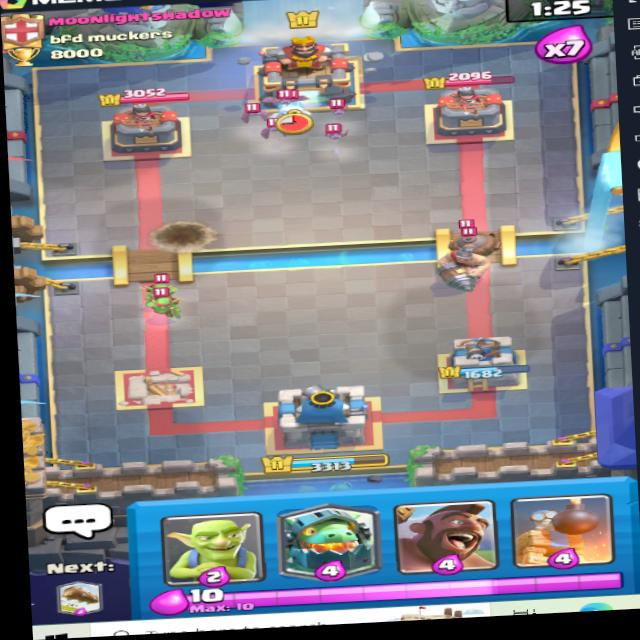bats: (315, 95, 371, 123), (253, 118, 290, 142), (316, 121, 357, 142), (236, 100, 270, 124)
ice-spirit: (271, 93, 312, 121)
mighty-miner: (421, 219, 516, 292)
spear-goblin: (140, 284, 190, 322)
